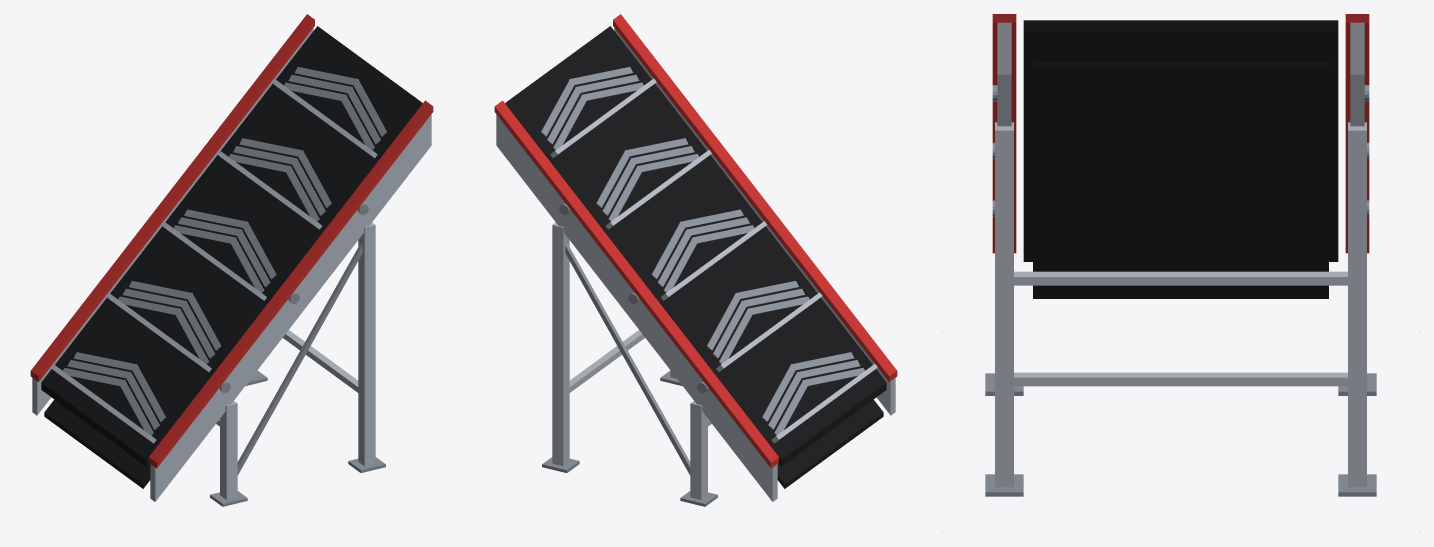
File: convoyeur_rampe_t3.glb
The picture shows the model from 3 angles, left to right: view 1: azimuth 30°, elevation 25°; view 2: azimuth 150°, elevation 25°; view 3: azimuth 270°, elevation 25°; orthographic projection. The views are drawn at different scales.
Visible parts, largest first — view 1: tapis_porteur.024, bande_acier.048, longeron_-1.024, pieces_gris_clair.016, rive_-1.024, rive_1.024, bande_gris_clair.004, pieces_acier.054, tapis_retour.024, longeron_1.024; view 2: tapis_porteur.024, bande_acier.048, longeron_1.024, pieces_gris_clair.016, rive_1.024, rive_-1.024, bande_gris_clair.004, pieces_acier.054, tapis_retour.024, longeron_-1.024; view 3: tapis_retour.024, pieces_gris_clair.016, tapis_porteur.024, pieces_acier.054, rive_1.024, rive_-1.024, longeron_1.024, longeron_-1.024.
Part boxes in pixels (left/top/right/bottom): tapis_porteur.024: left=41, top=26, right=422, bottom=466; bande_acier.048: left=63, top=67, right=386, bottom=435; longeron_-1.024: left=150, top=114, right=431, bottom=501; pieces_gris_clair.016: left=216, top=222, right=375, bottom=499; rive_-1.024: left=149, top=100, right=433, bottom=468; rive_1.024: left=30, top=14, right=314, bottom=381; bande_gris_clair.004: left=50, top=78, right=377, bottom=443; pieces_acier.054: left=210, top=203, right=385, bottom=506; tapis_retour.024: left=44, top=399, right=150, bottom=488; longeron_1.024: left=32, top=28, right=313, bottom=415; tapis_porteur.024: left=505, top=26, right=886, bottom=466; bande_acier.048: left=541, top=67, right=864, bottom=435; longeron_1.024: left=496, top=114, right=777, bottom=501; pieces_gris_clair.016: left=552, top=222, right=711, bottom=499; rive_1.024: left=494, top=100, right=778, bottom=468; rive_-1.024: left=613, top=14, right=897, bottom=381; bande_gris_clair.004: left=550, top=78, right=877, bottom=443; pieces_acier.054: left=542, top=203, right=717, bottom=506; tapis_retour.024: left=777, top=399, right=883, bottom=488; longeron_-1.024: left=614, top=28, right=895, bottom=415; tapis_retour.024: left=1033, top=61, right=1328, bottom=298; pieces_gris_clair.016: left=995, top=122, right=1366, bottom=487; tapis_porteur.024: left=1023, top=20, right=1338, bottom=261; pieces_acier.054: left=985, top=85, right=1376, bottom=496; rive_1.024: left=1345, top=14, right=1369, bottom=253; rive_-1.024: left=992, top=14, right=1016, bottom=253; longeron_1.024: left=1350, top=22, right=1364, bottom=126; longeron_-1.024: left=997, top=22, right=1011, bottom=126.
Bounding box in the file's own units: 1 × 1.2 × 1.
